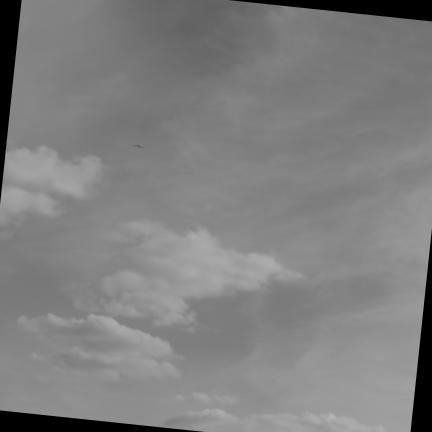Shahed: (131, 144, 145, 150)
